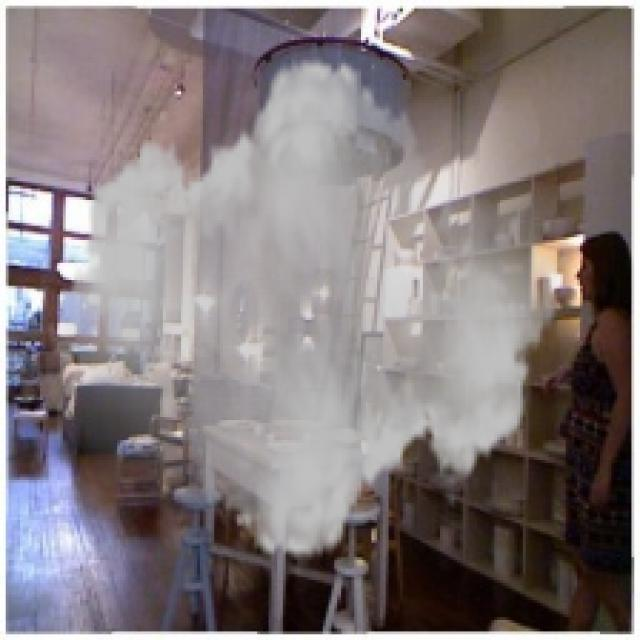Smoke: (46, 37, 568, 580)
